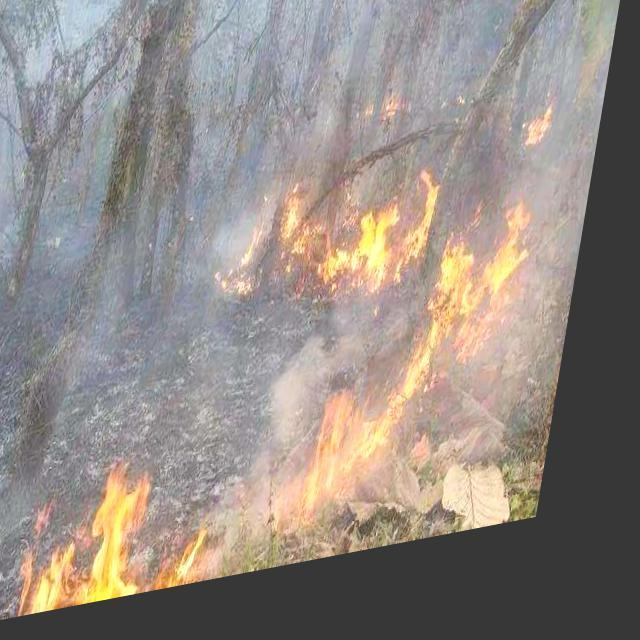Fire: (202, 170, 550, 560), (32, 462, 244, 616), (366, 100, 416, 137), (527, 120, 563, 167)
